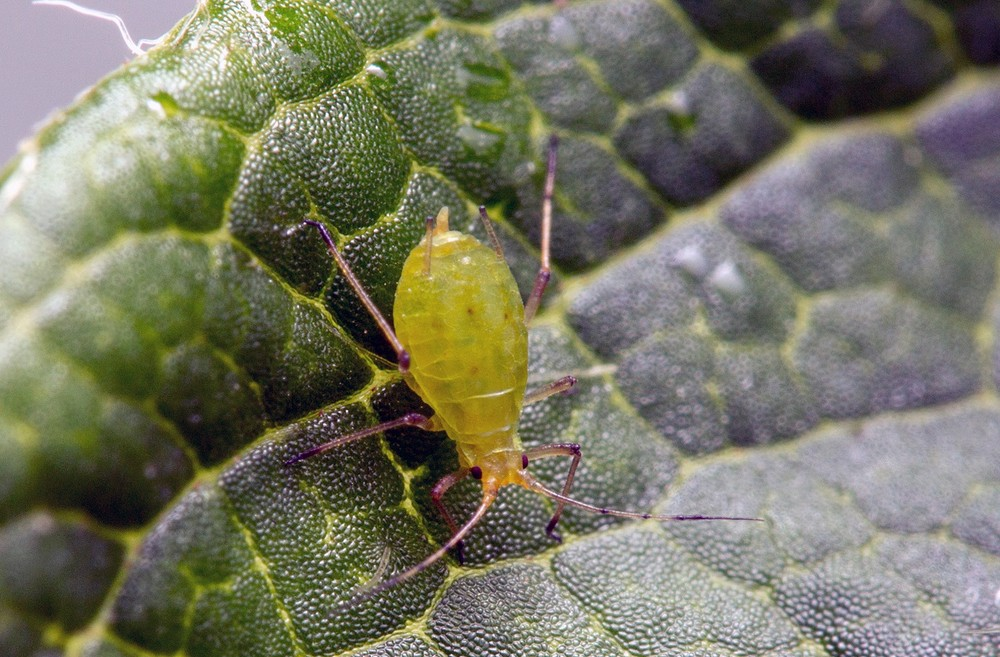Pulgon: (297, 173, 679, 581)
